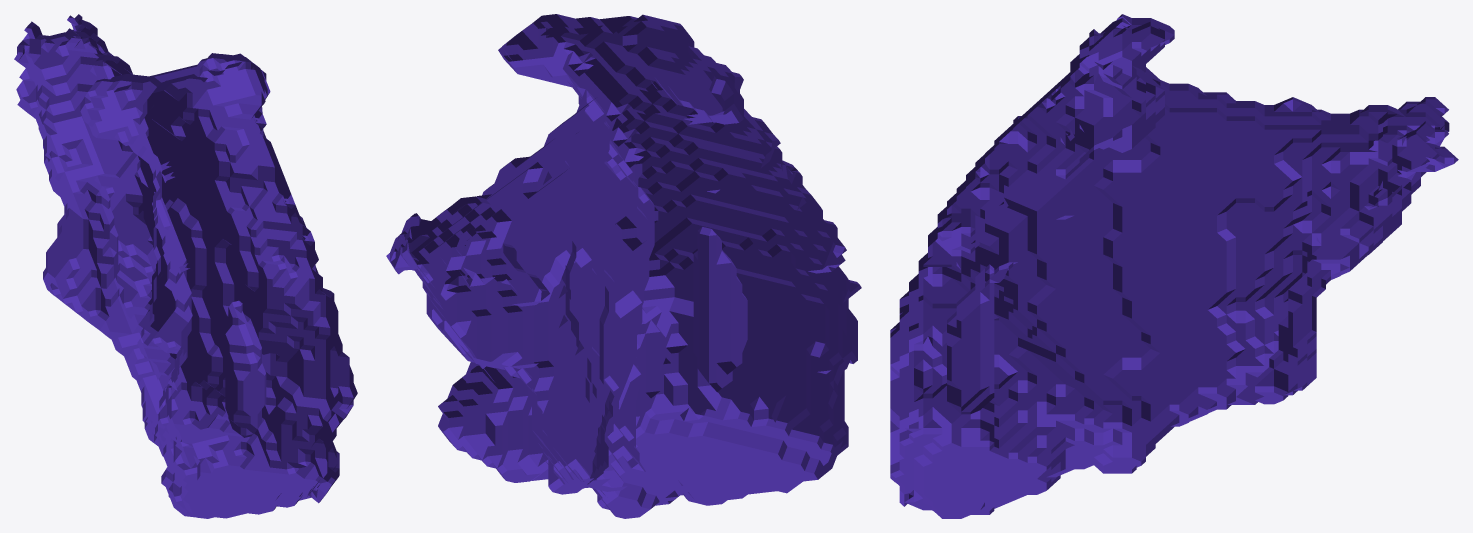
File: region_0066_Hv__ventral_zone_of_periventricular_hypothalamus_.glb
The picture shows the model from 3 angles, left to right: view 1: azimuth 30°, elevation 25°; view 2: azimuth 150°, elevation 25°; view 3: azimuth 270°, elevation 25°; orthographic projection. The views are drawn at different scales.
Visible parts, largest first — view 1: world; view 2: world; view 3: world.
Part boxes in pixels (box(x1,y1,x2,y2)): world: box(14, 14, 357, 518); world: box(386, 14, 861, 518); world: box(890, 14, 1458, 518).
Bounding box in the file's own units: 0.208 × 0.408 × 0.48.
